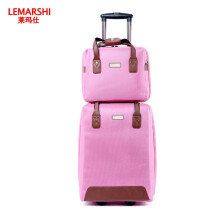luggage: (74, 12, 159, 208)
